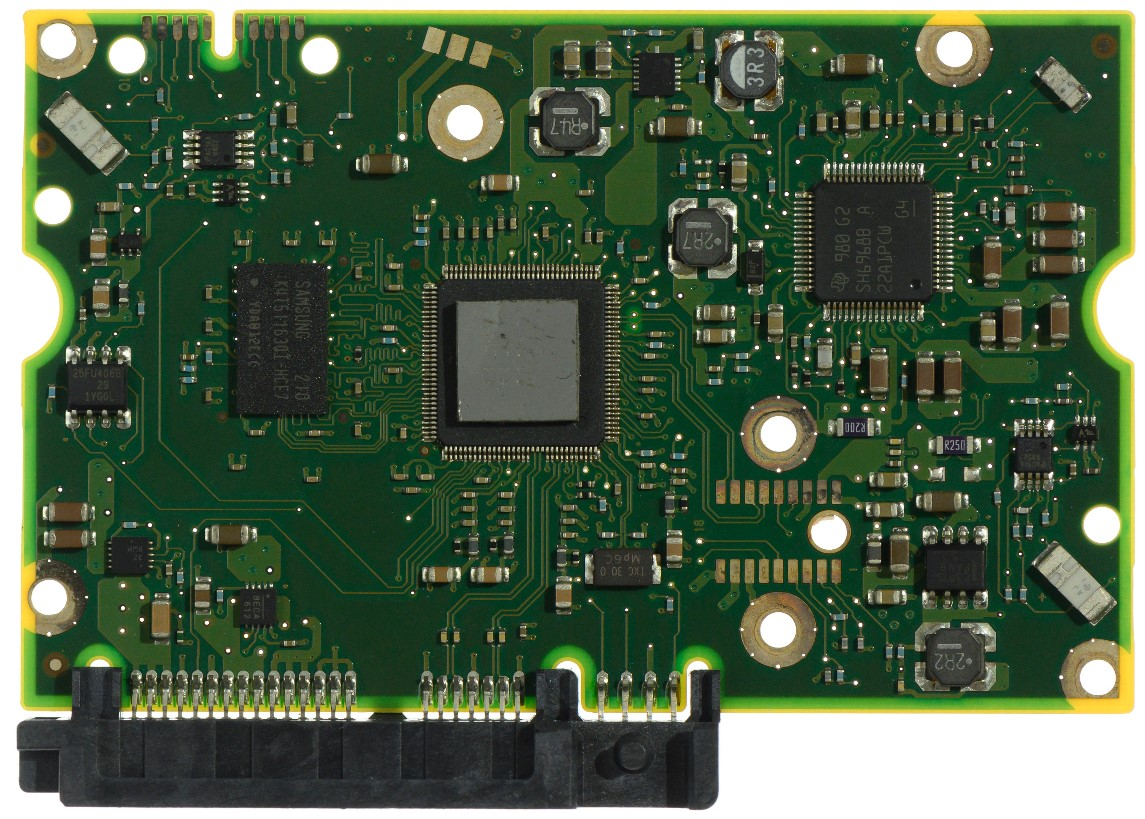Induktor: (925, 626, 986, 688), (671, 208, 735, 267), (537, 91, 598, 151), (720, 41, 779, 100)
